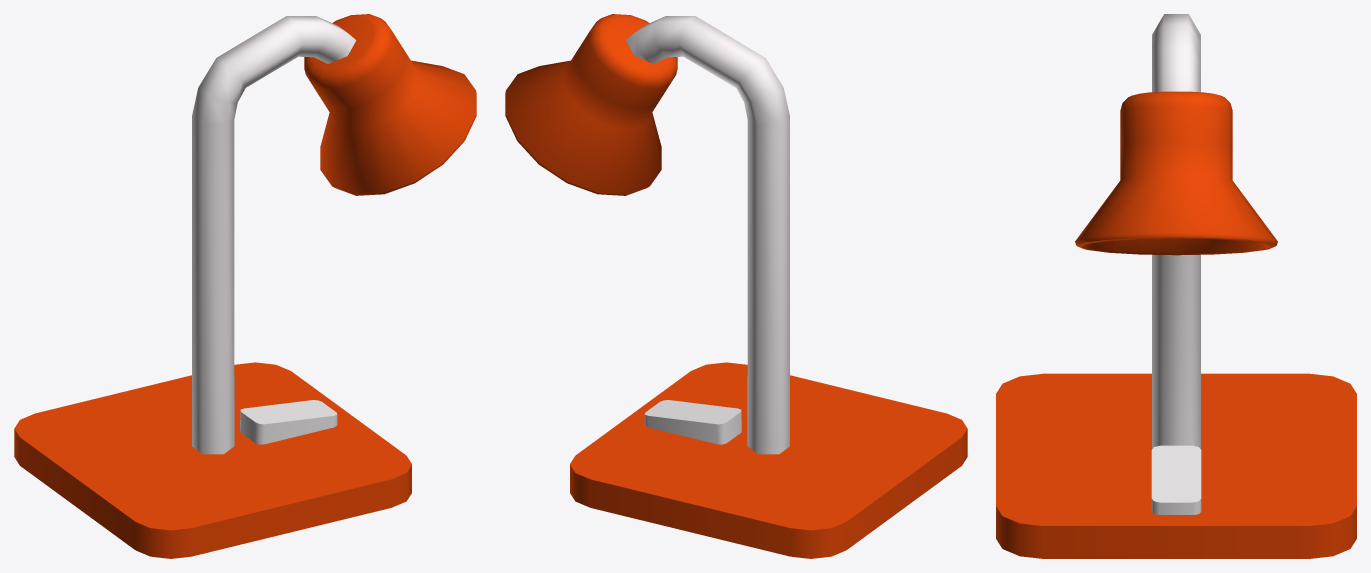
Rendered from Lamp.fbx.
3 renders of one model, left to right at view 1: azimuth 30°, elevation 25°; view 2: azimuth 150°, elevation 25°; view 3: azimuth 270°, elevation 25°, orthographic. The views are drawn at different scales.
Visible parts, largest first — view 1: Lamp2; view 2: Lamp2; view 3: Lamp2.
Part boxes in pixels (left/top/right/bottom): Lamp2: left=14, top=14, right=476, bottom=558; Lamp2: left=505, top=14, right=967, bottom=558; Lamp2: left=996, top=14, right=1356, bottom=558.
Bounding box in the file's own units: 114 × 123 × 80.16.
